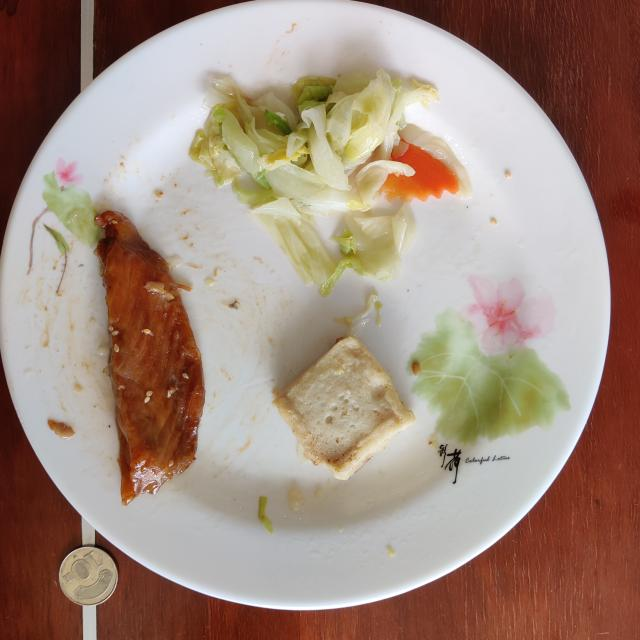Kabayaki sea bream fillet: (95, 211, 205, 505)
cabbage: (190, 69, 471, 295)
coin: (59, 546, 118, 605)
creamy tofu -without sauce-: (272, 336, 416, 480)
